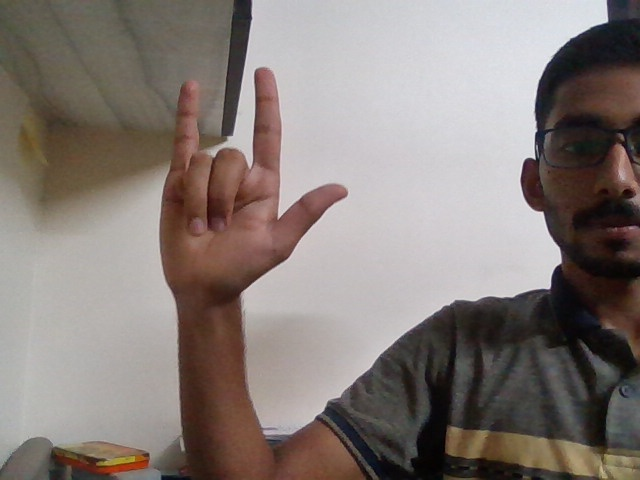Enjoy: (147, 57, 368, 330)
